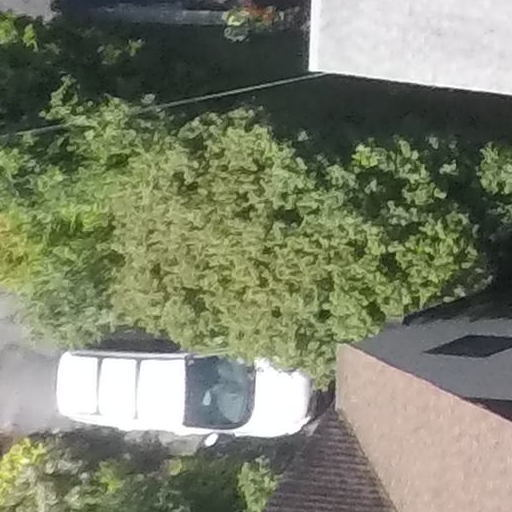car: (34, 317, 366, 479)
